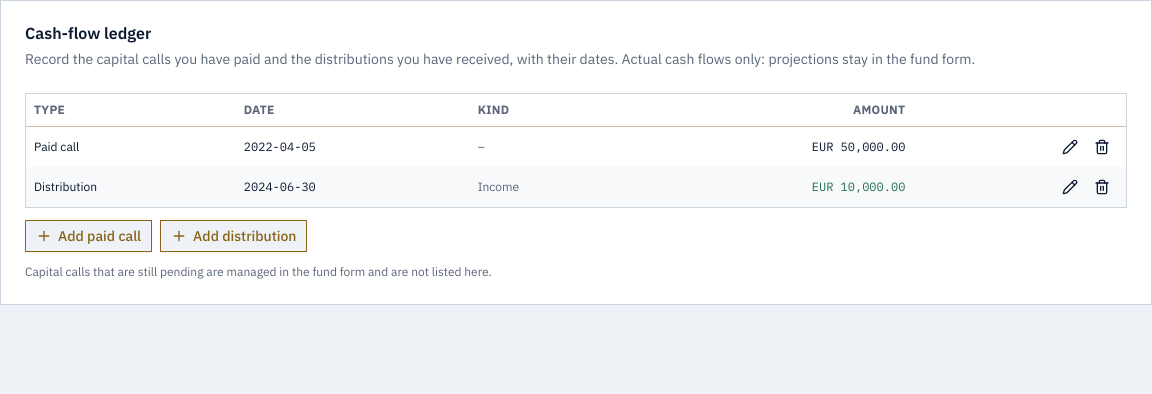
Test: PrivateEquityLedgerEditor › shows the validation message and saves nothing for a bad date or amount
The image size is (1152, 394).
Click the button "Add distribution" at (234, 236), box [160,220,307,252]
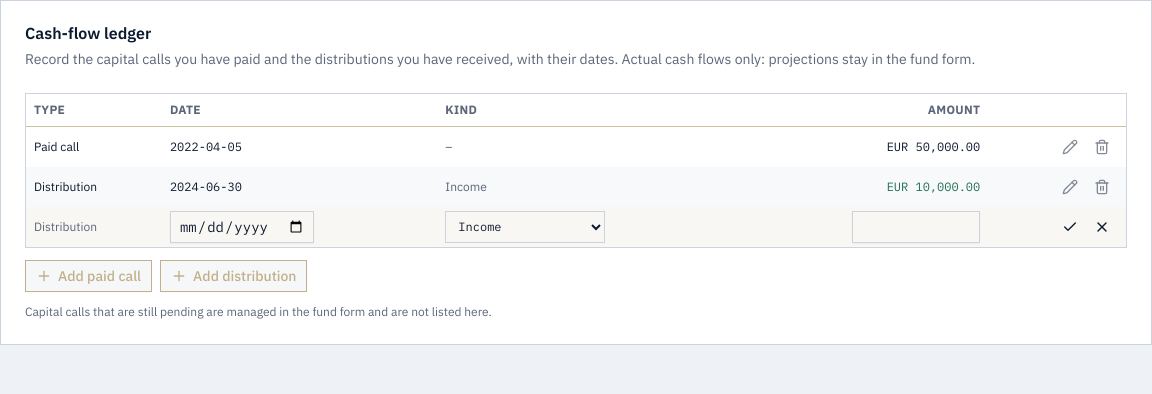
Type "100" into the number field named "Amount (EUR)" at (916, 226), box [852,210,980,242]
Click the button named "Save" at (1070, 226), box [1054,210,1086,242]
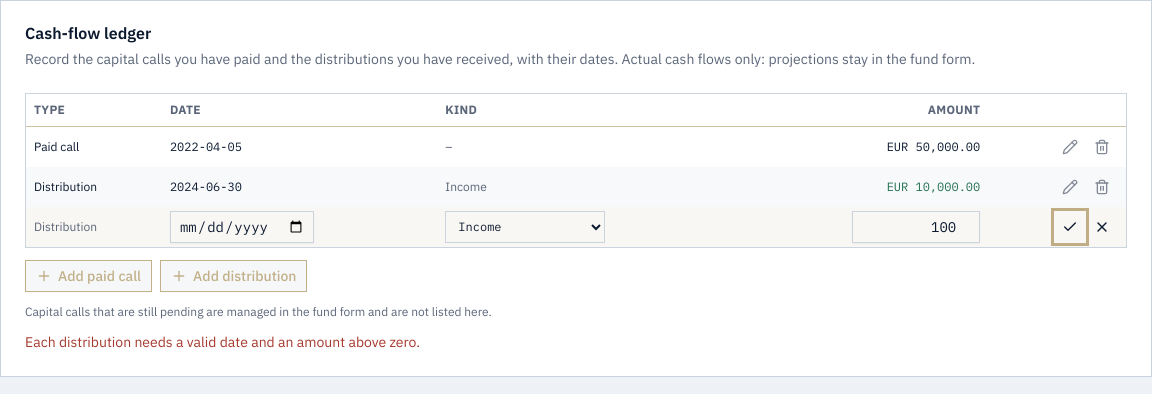
Check: the message reads "Each distribution needs a valid date and an amount above zero.", box [25,332,420,350]
Click the button named "Cancel" at (1102, 226), box [1086,210,1118,242]
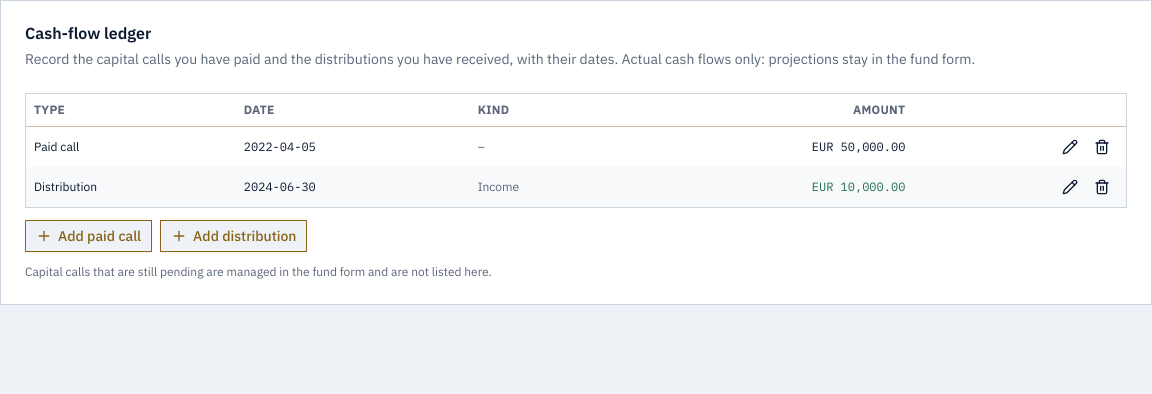
Click the button "Add paid call" at (89, 236), box [25,220,152,252]
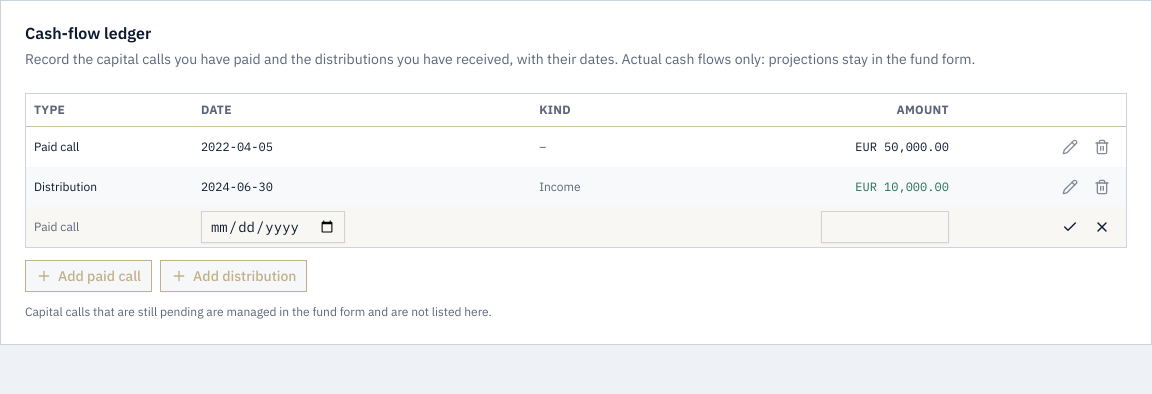
Type "100" into the number field named "Amount (EUR)" at (885, 226), box [821,210,949,242]
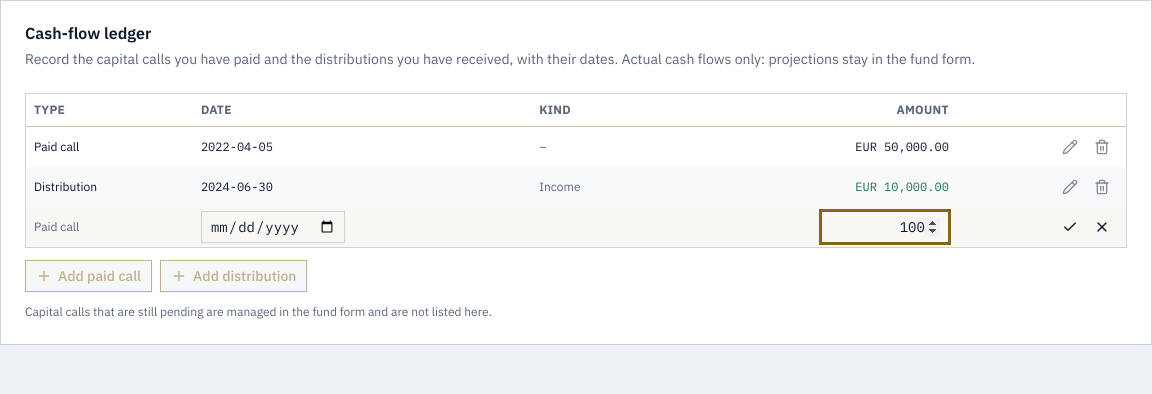
Click the button named "Save" at (1070, 226), box [1054,210,1086,242]
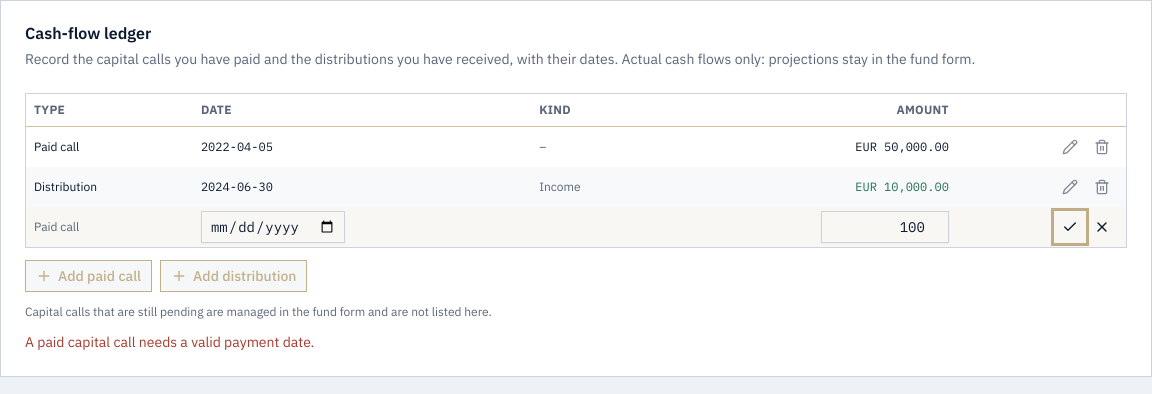
Check: the message reads "A paid capital call needs a valid payment date.", box [25,332,314,350]
